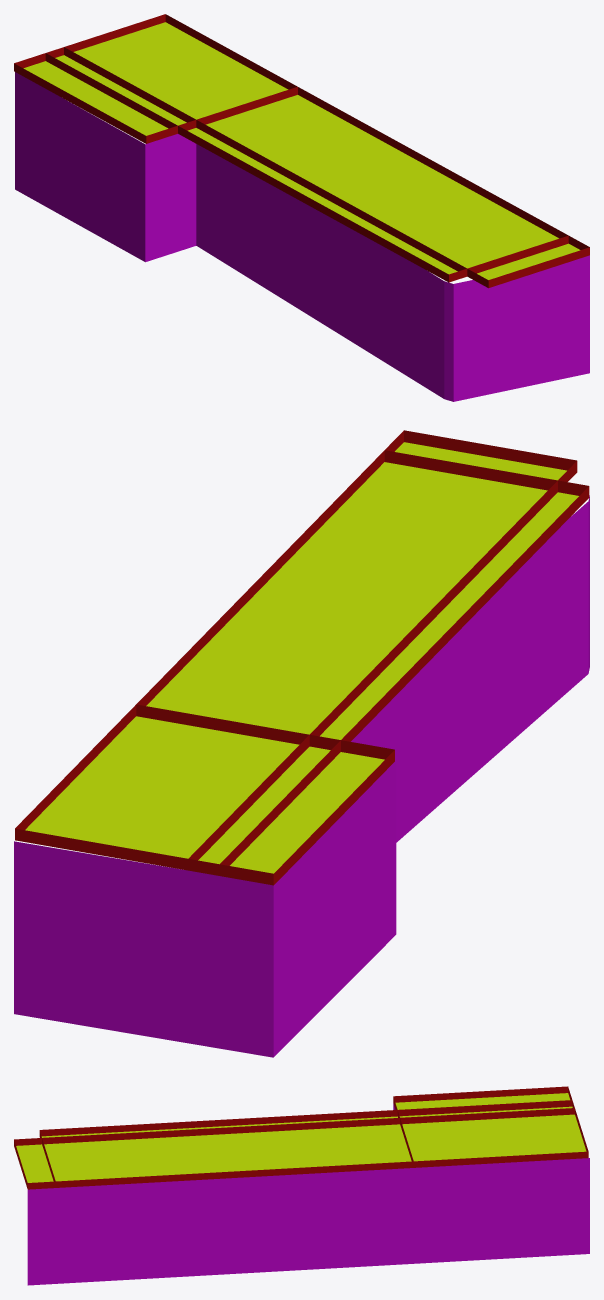
Rendered from bgj_179.glb.
3 views of the same model, one above another, from view 1: azimuth 30°, elevation 25°; view 2: azimuth 150°, elevation 25°; view 3: azimuth 270°, elevation 25° (orthographic). The views are drawn at different scales.
Visible parts, largest first — view 1: bgj_179; view 2: bgj_179; view 3: bgj_179.
Boxes of the visible parts, x1,y1,x2,y2 form: bgj_179: (14, 14, 589, 401); bgj_179: (14, 430, 589, 1057); bgj_179: (14, 1086, 589, 1285).
Bounding box in the file's own units: 11.07 × 5.48 × 27.9.
